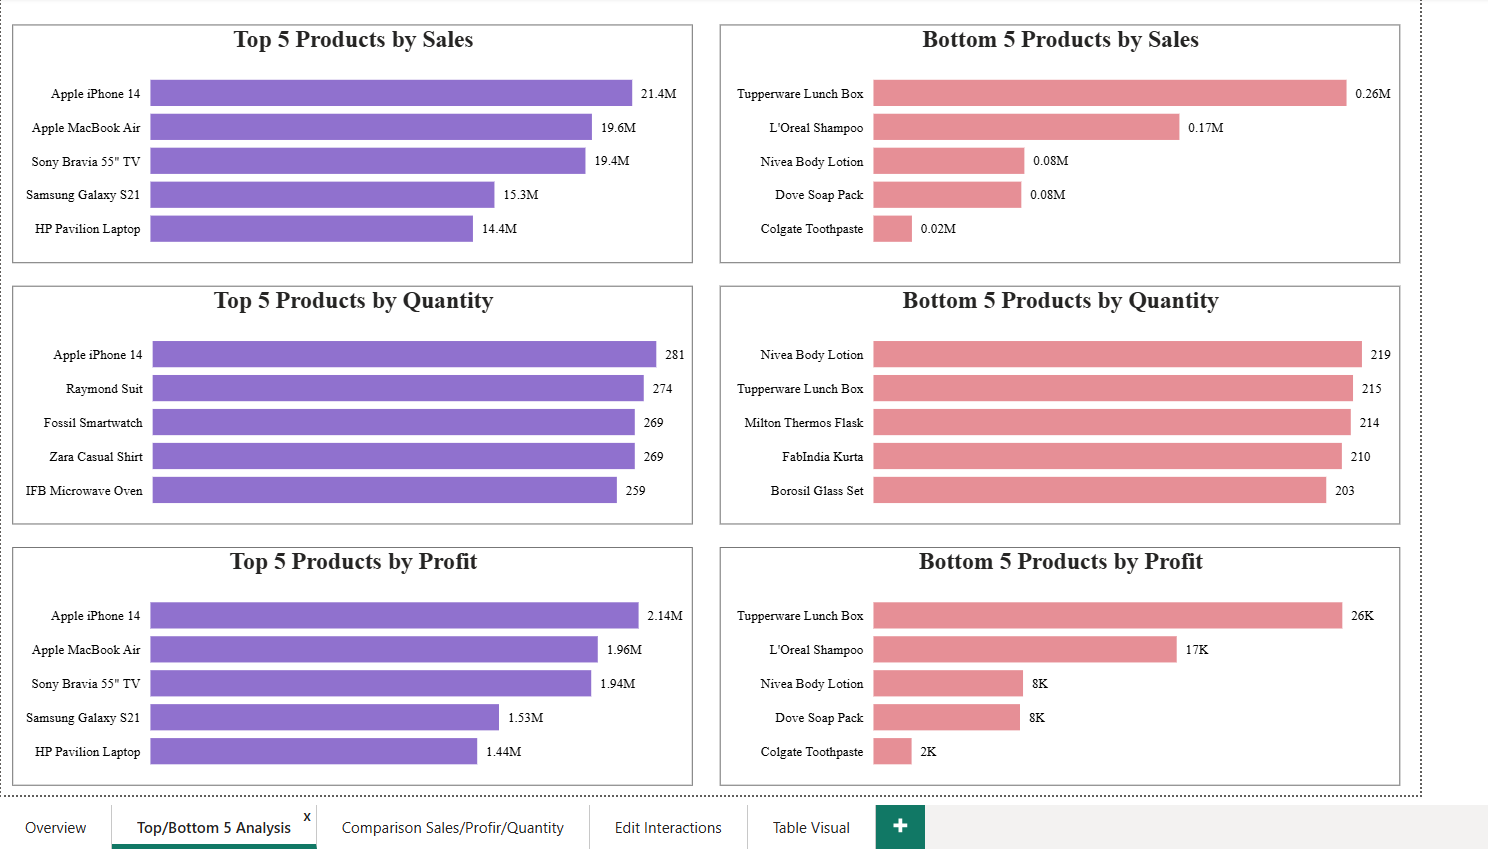

The dashboard page shown, as its layout file describes it:
{"tool":"powerbi","page":{"name":"Top/Bottom 5 Analysis","canvas":[1280,720],"ordinal":1},"visuals":[{"type":"barChart","title":"Top 5 Products by Sales","fields":{"Category":["Dim Product.Product Name"],"Y":["Sum(Fact Table.Net Sales )"]},"box":[9.6,24.7,613.4,215.4],"z":0},{"type":"barChart","title":"Bottom 5 Products by Sales","fields":{"Category":["Dim Product.Product Name"],"Y":["Sum(Fact Table.Net Sales )"]},"box":[647.7,24.7,613.4,215.4],"z":1000},{"type":"barChart","title":"Top 5 Products by Quantity","fields":{"Category":["Dim Product.Product Name"],"Y":["Sum(Fact Table.Units Sold)"]},"box":[9.6,260.7,613.4,215.4],"z":2000},{"type":"barChart","title":"Bottom 5 Products by Quantity","fields":{"Category":["Dim Product.Product Name"],"Y":["Sum(Fact Table.Units Sold)"]},"box":[647.7,260.7,613.4,215.4],"z":3000},{"type":"barChart","title":"Top 5 Products by Profit","fields":{"Category":["Dim Product.Product Name"],"Y":["Sum(Fact Table.Profit)"]},"box":[9.6,495.4,613.4,215.4],"z":4000},{"type":"barChart","title":"Bottom 5 Products by Profit","fields":{"Category":["Dim Product.Product Name"],"Y":["Sum(Fact Table.Profit)"]},"box":[647.7,495.4,613.4,215.4],"z":5000}]}

Visuals, with their boxes on the page's 1280x720 design canvas (x1, y1, x2, y2). These are canvas units, not pixel positions in the 1488x849 screenshot, which may show the page scaled, cropped or inside an application window:
"Top 5 Products by Sales" barChart: (x1=10, y1=25, x2=623, y2=240)
"Bottom 5 Products by Sales" barChart: (x1=648, y1=25, x2=1261, y2=240)
"Top 5 Products by Quantity" barChart: (x1=10, y1=261, x2=623, y2=476)
"Bottom 5 Products by Quantity" barChart: (x1=648, y1=261, x2=1261, y2=476)
"Top 5 Products by Profit" barChart: (x1=10, y1=495, x2=623, y2=711)
"Bottom 5 Products by Profit" barChart: (x1=648, y1=495, x2=1261, y2=711)
